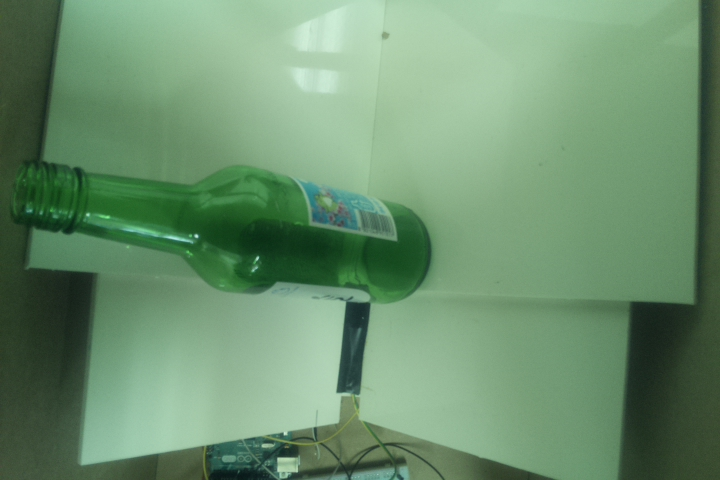soju: (12, 157, 431, 306)
